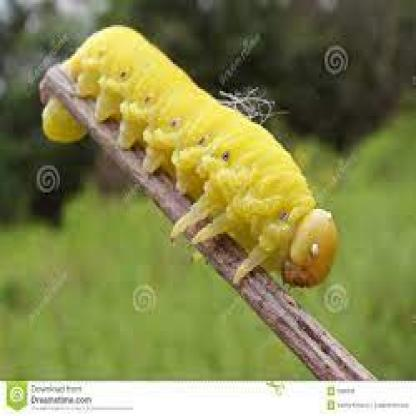sawfly: (40, 20, 338, 298)
